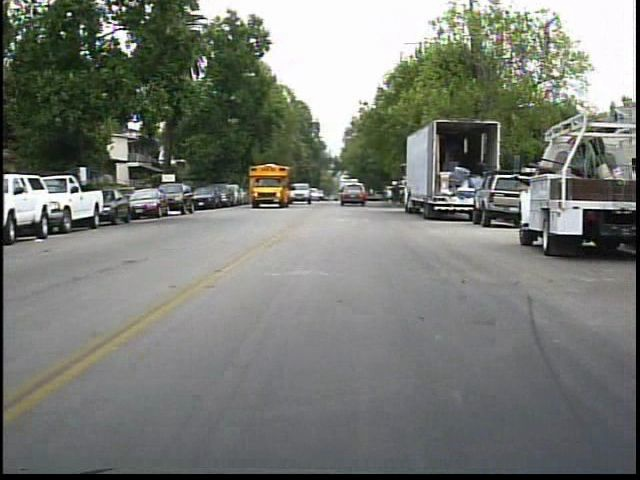person: (389, 178, 407, 212)
